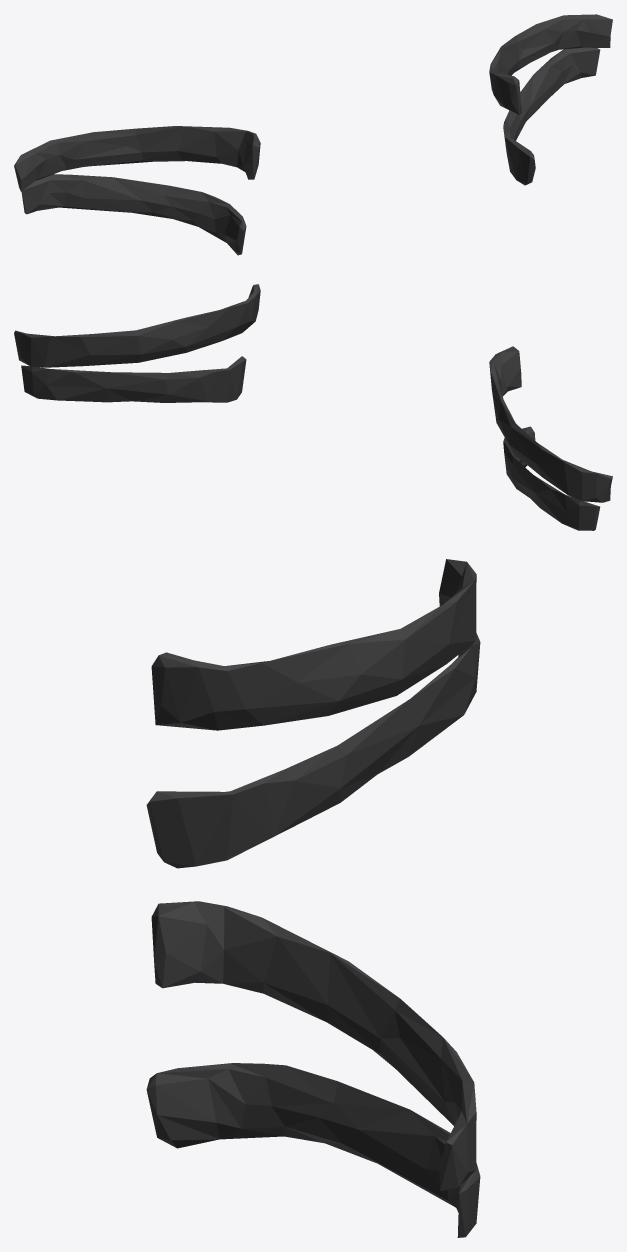
The model's file is lig_flexor_retinaculum_FL.glb.
3 views of the same model, one above another, from view 1: azimuth 30°, elevation 25°; view 2: azimuth 150°, elevation 25°; view 3: azimuth 270°, elevation 25° (orthographic). The views are drawn at different scales.
Visible parts, largest first — view 1: lig_flexor_retinaculum_FL; view 2: lig_flexor_retinaculum_FL; view 3: lig_flexor_retinaculum_FL.
Part boxes in pixels (x1,y1,x2,y2): lig_flexor_retinaculum_FL: (14, 14, 612, 255); lig_flexor_retinaculum_FL: (14, 284, 612, 530); lig_flexor_retinaculum_FL: (146, 559, 480, 1237).
Bounding box in the file's own units: 0.00441 × 0.000807 × 0.00107.
Materials: 1 (1 with a texture image).
